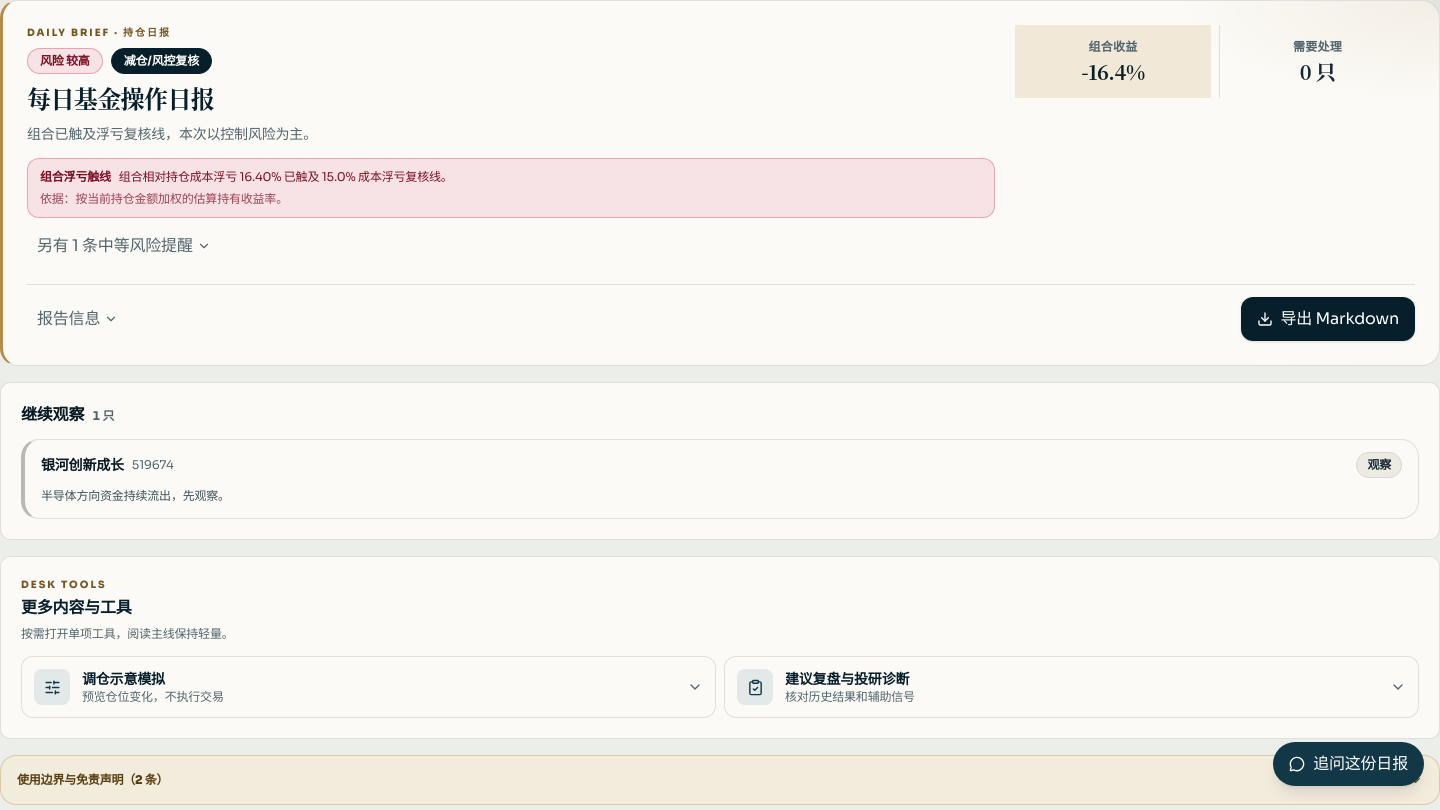
Test: ReportPanel 方向退出判定 › 跌破退出线时给出方向诊断，且不重复风险升级已写过的理由
Click the button with aria-label "展开 银河创新成长". click: [82, 465]
box: [25,440,1418,518]
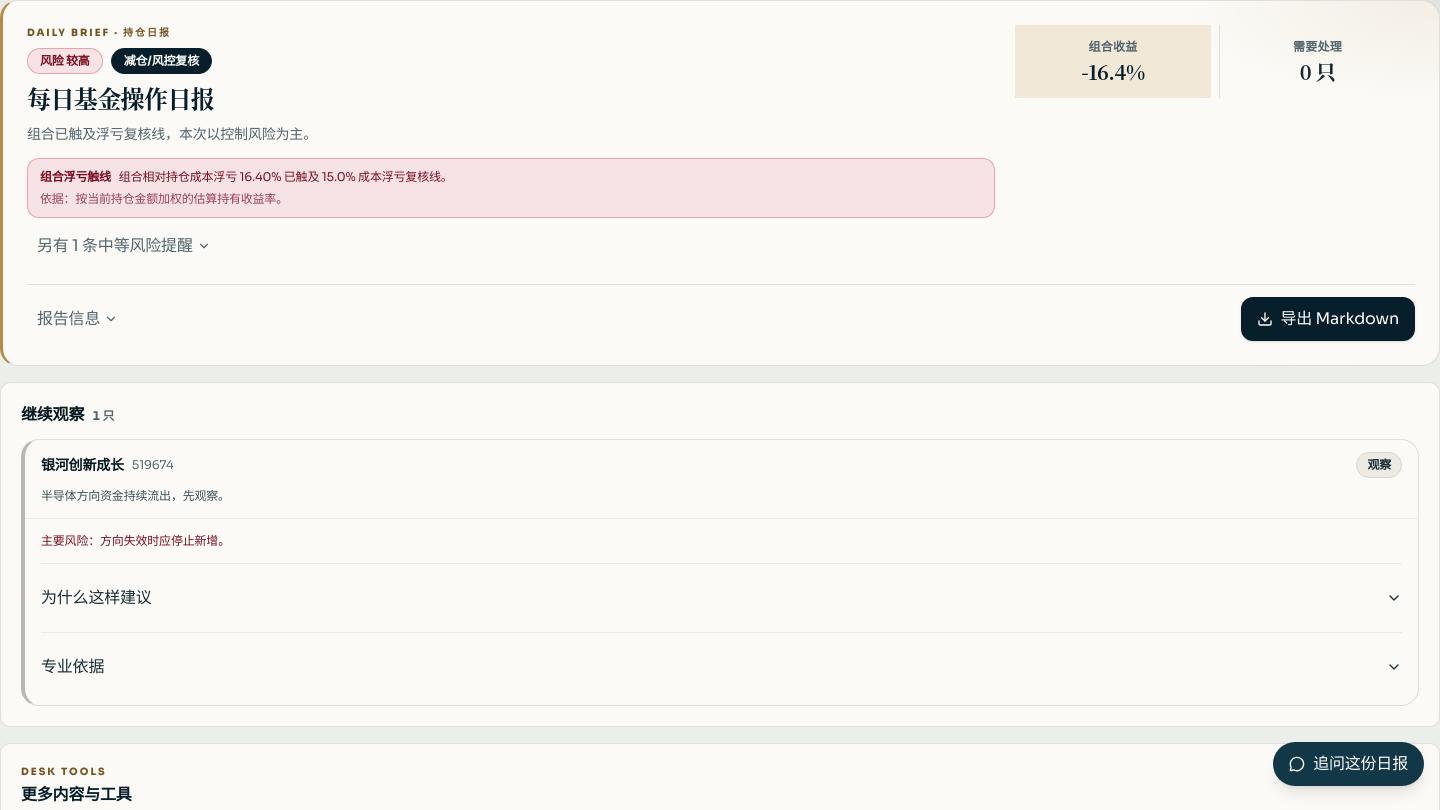
Click the button "专业依据". click: [73, 666]
box: [41,645,1402,689]
(page scrolled)
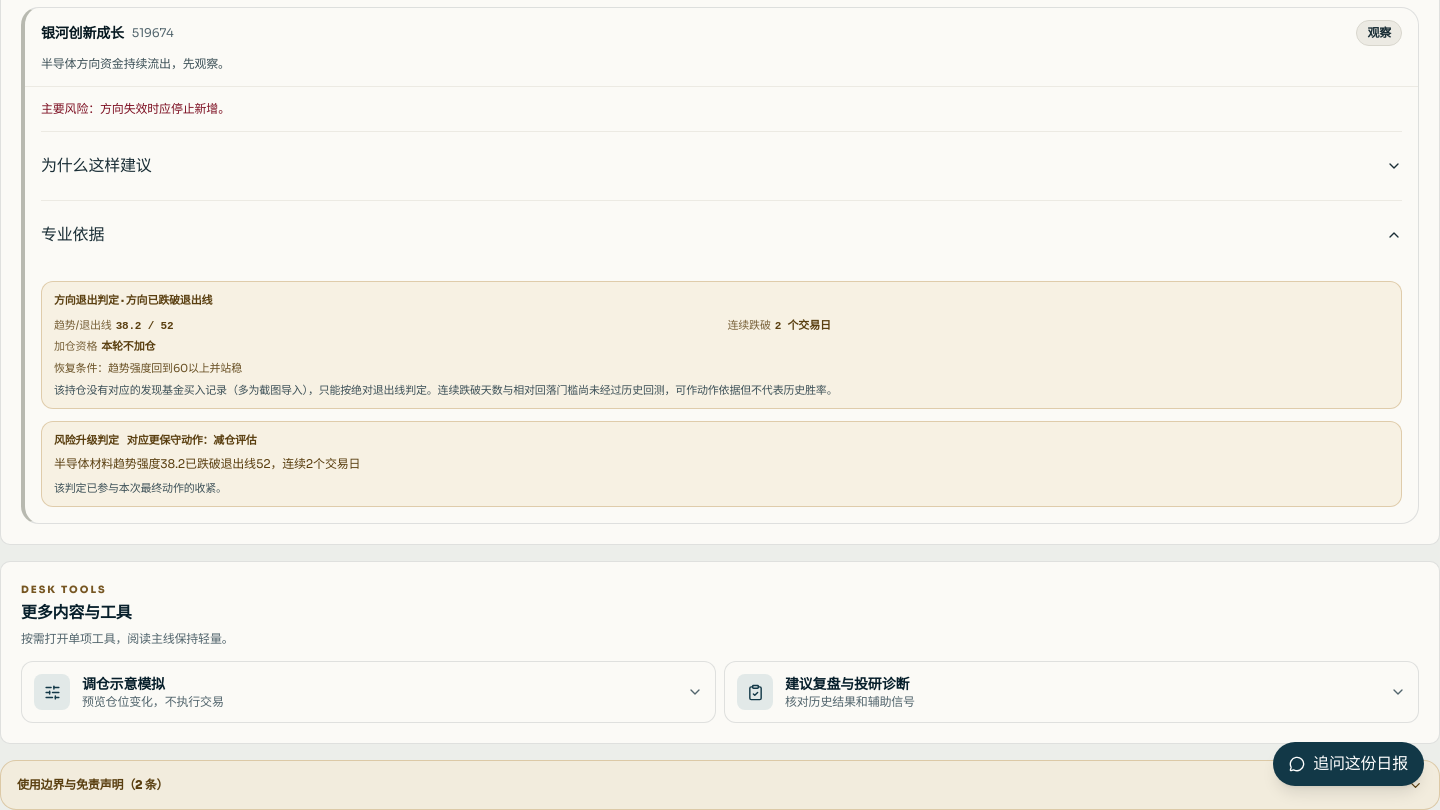
Check: the text "方向退出判定 · 方向已跌破退出线" is shown, box [54,293,212,307]
Check: the text "38.2 / 52" is shown, box [116,318,173,334]
Check: the text "2 个交易日" is shown, box [775,318,831,334]
